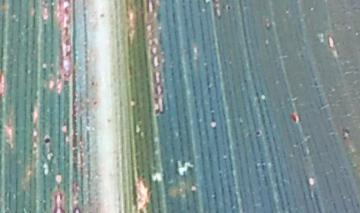tarspot: (40, 133, 53, 149), (252, 128, 265, 140), (225, 3, 234, 13)
